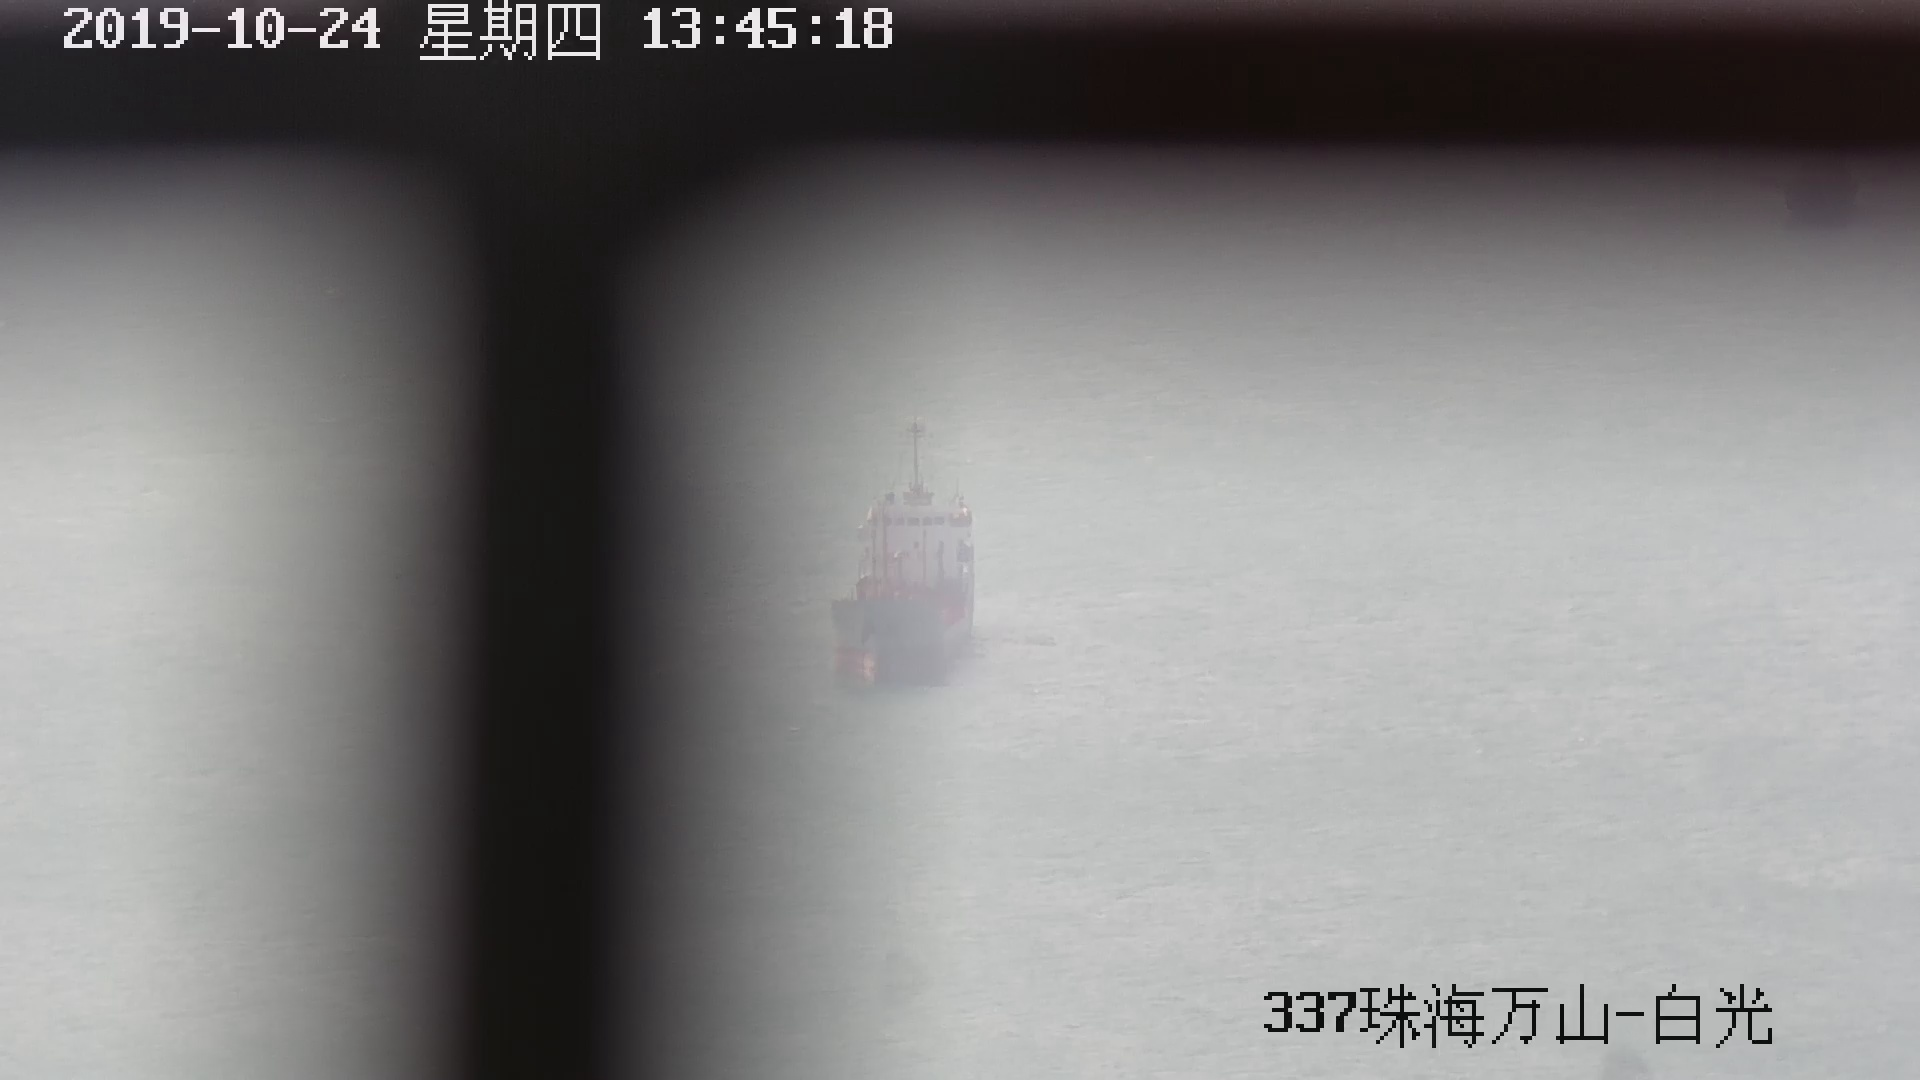ship: (824, 411, 984, 703)
